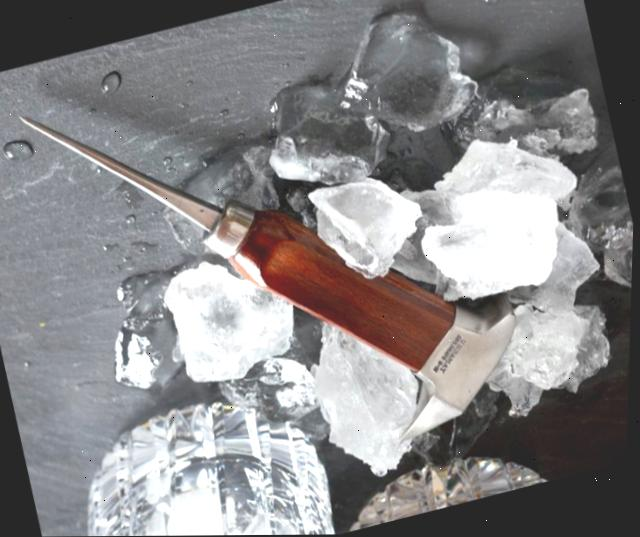ice pick: (11, 8, 546, 517)
